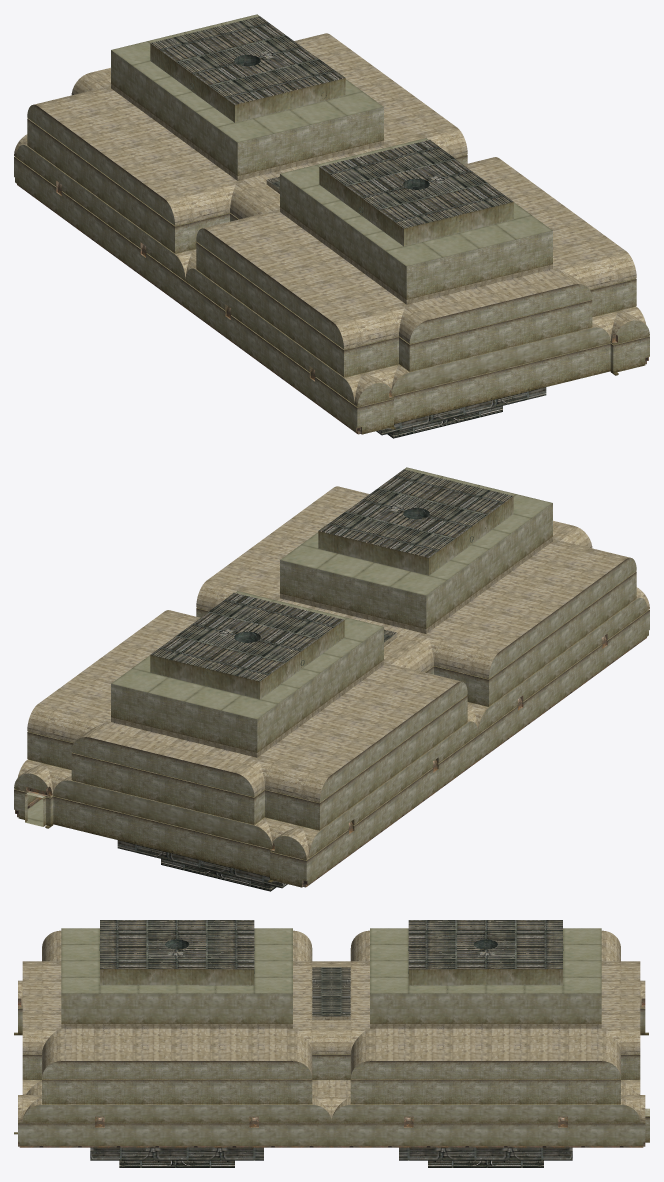
Rendered from poi_all_bunker_allum_mine_r65_filtrationroom65_mesh_r65.fbx.
3 views of the same model, one above another, from view 1: azimuth 30°, elevation 25°; view 2: azimuth 150°, elevation 25°; view 3: azimuth 270°, elevation 25° (orthographic). The views are drawn at different scales.
Visible parts, largest first — view 1: mesh_node; view 2: mesh_node; view 3: mesh_node.
Boxes of the visible parts, x1,y1,x2,y2 form: mesh_node: (14,14,649,438); mesh_node: (14,467,649,891); mesh_node: (14,920,649,1167).
Bounding box in the file's own units: 32 × 22.75 × 65.9.
